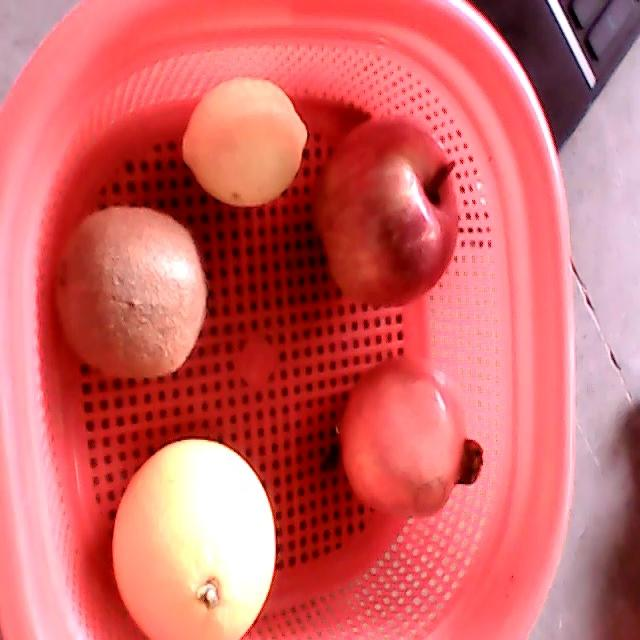apple: (313, 113, 460, 309)
kiwi: (55, 203, 207, 379)
lemon: (181, 77, 309, 208)
orange: (110, 437, 275, 639)
pomegranate: (334, 356, 483, 523)
